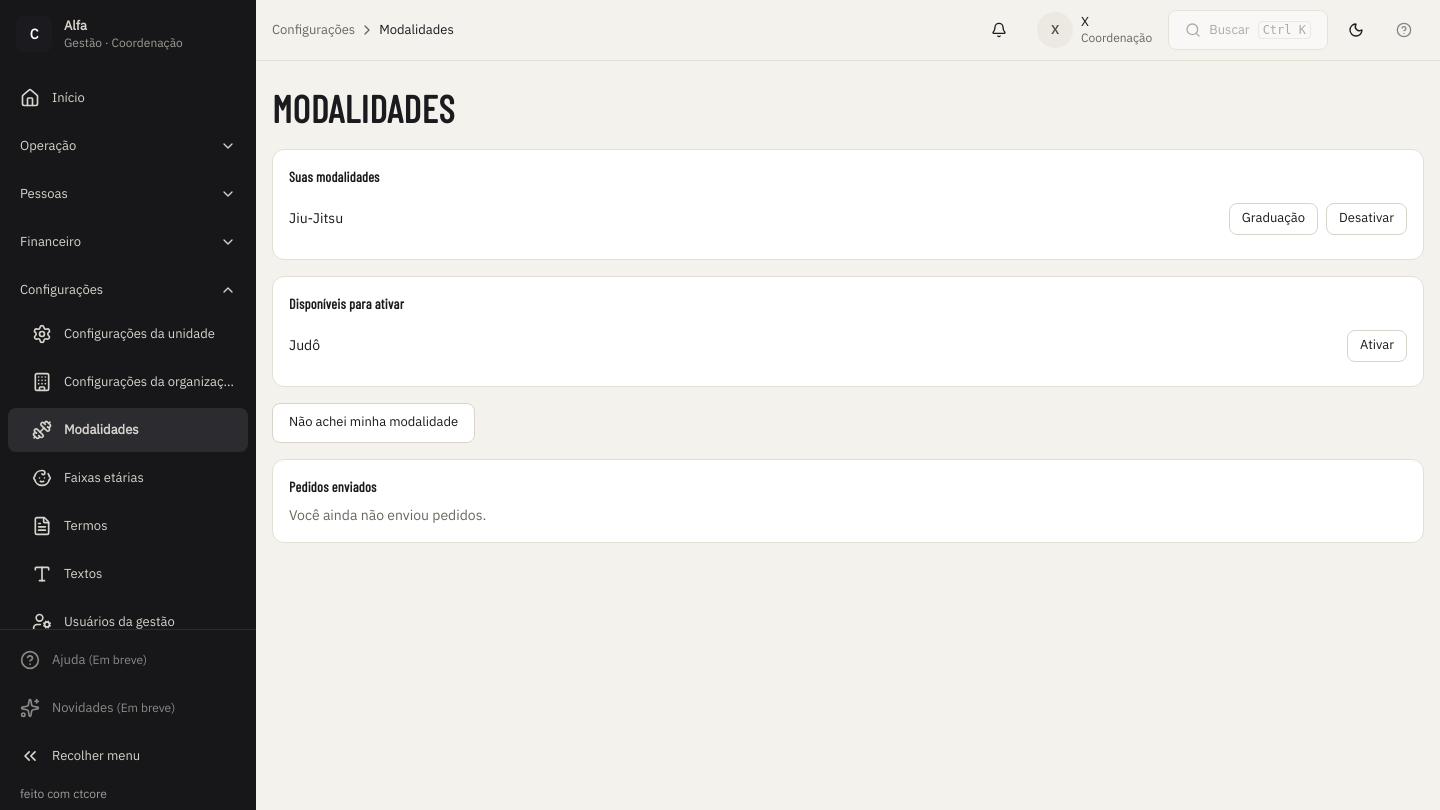
Test case: GraduationDialog › CA12: carregando, vazio, erro com nova tentativa e sem permissão
Expected: the heading "Modalidades" is shown, x1=272 y1=85 x2=455 y2=132
Click the button "Graduação".
click(1273, 218)  # box x1=1229 y1=202 x2=1318 y2=234
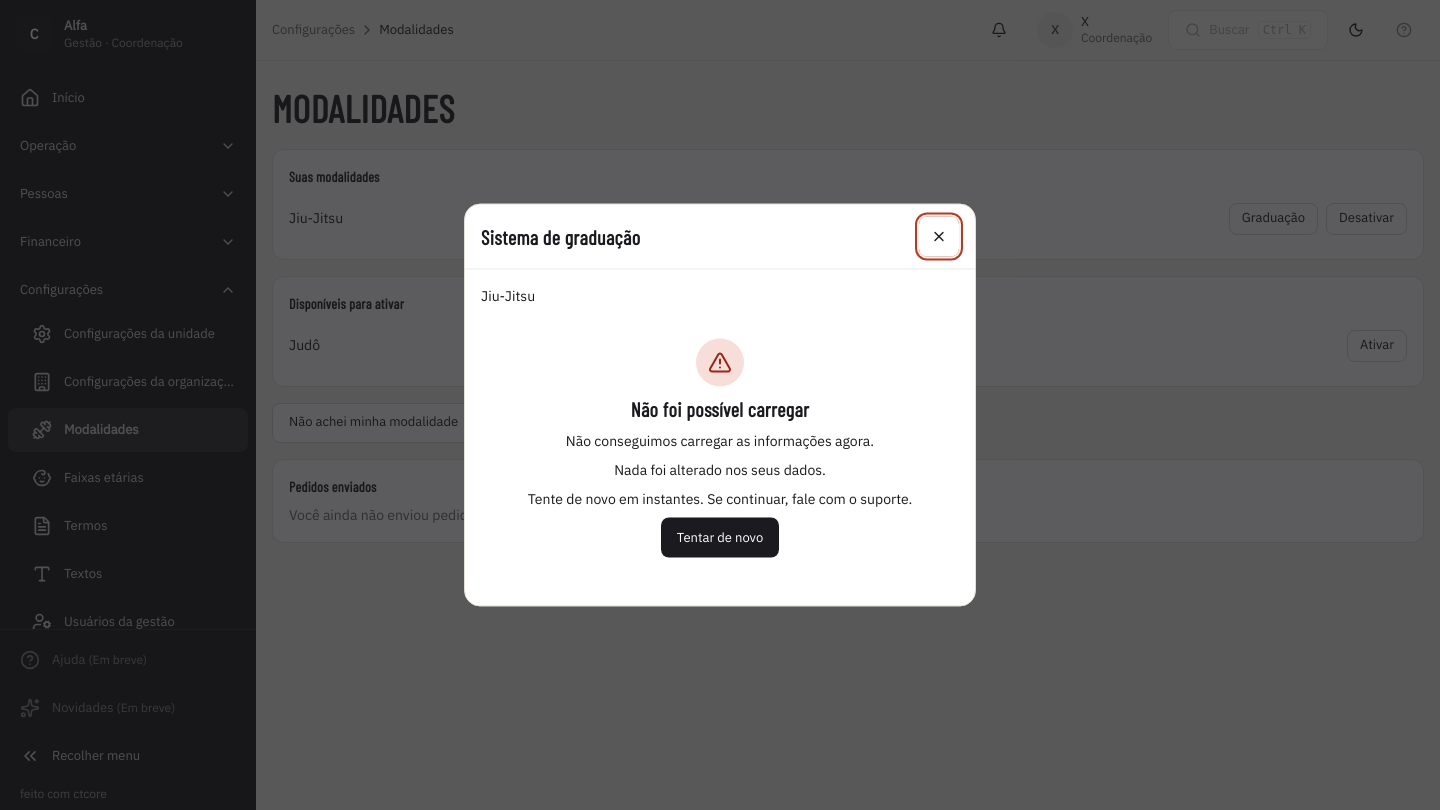
Click the button "Tentar de novo".
click(720, 538)  # box x1=661 y1=518 x2=779 y2=558
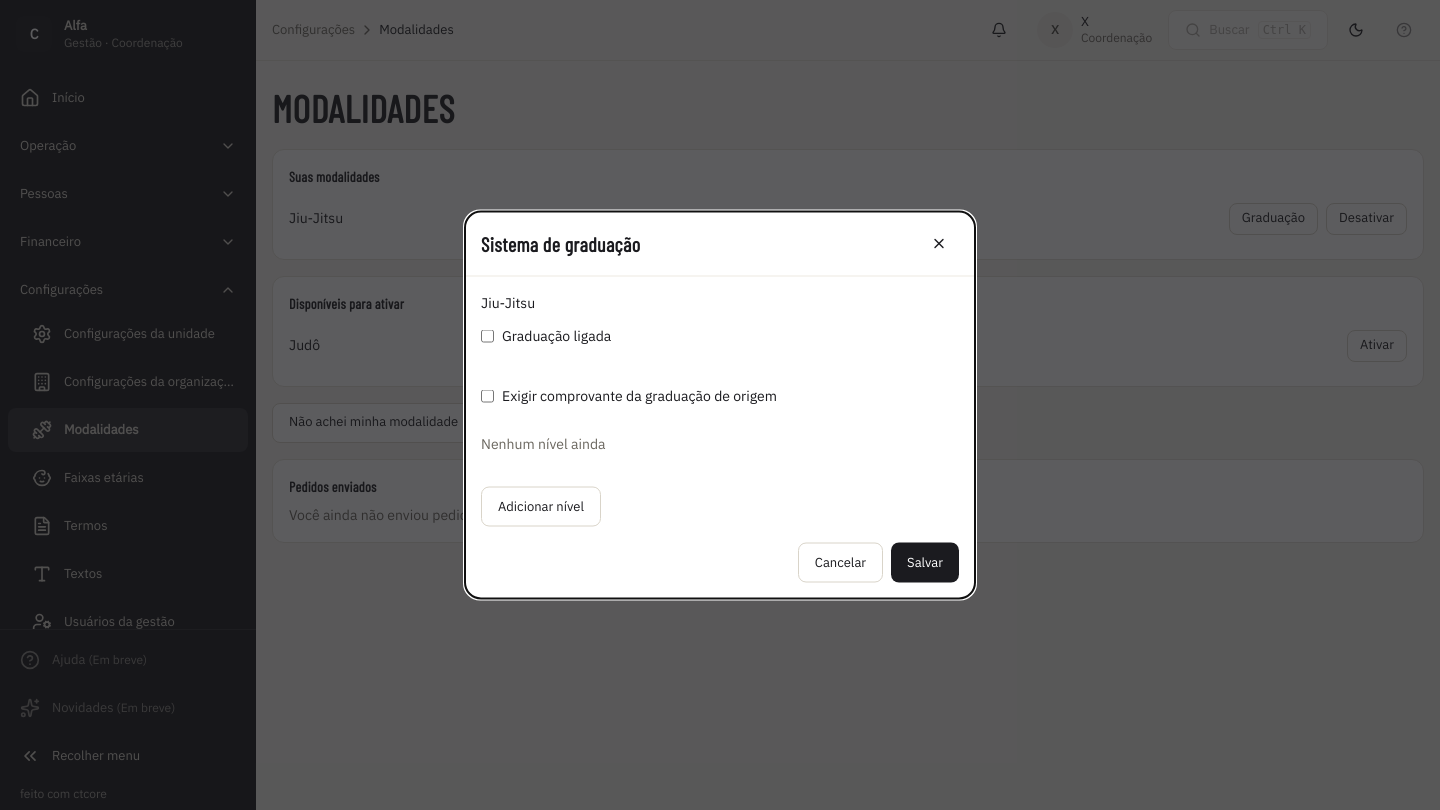
Expected: the text "Nenhum nível ainda" is shown, x1=481 y1=434 x2=606 y2=452
